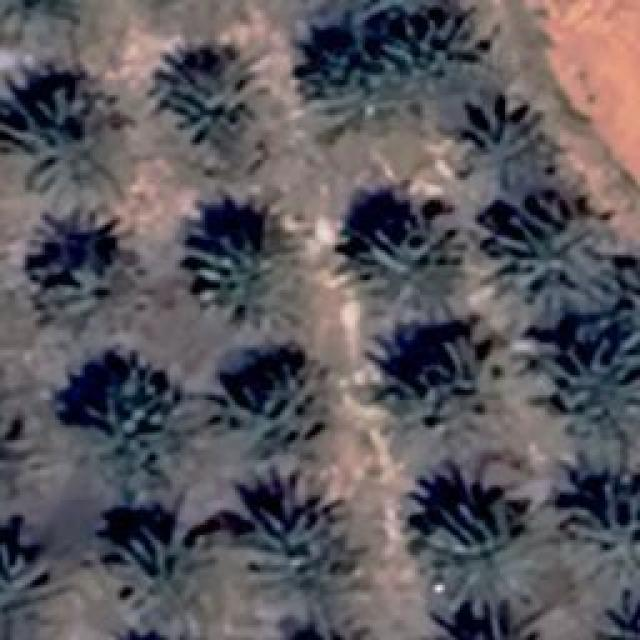PalmTree: (83, 99, 598, 378), (96, 53, 427, 99), (420, 498, 538, 620), (492, 190, 610, 312), (298, 18, 446, 110), (354, 210, 468, 325), (162, 42, 276, 156), (8, 85, 120, 200), (54, 349, 182, 449), (190, 230, 305, 328), (390, 329, 515, 419), (105, 522, 213, 620), (28, 220, 122, 322), (222, 355, 328, 443), (458, 92, 550, 186), (560, 480, 638, 582), (240, 494, 332, 568), (0, 544, 70, 638), (0, 0, 85, 42), (0, 396, 25, 514), (433, 617, 546, 640), (592, 590, 638, 638), (0, 396, 17, 513), (346, 0, 444, 18)
